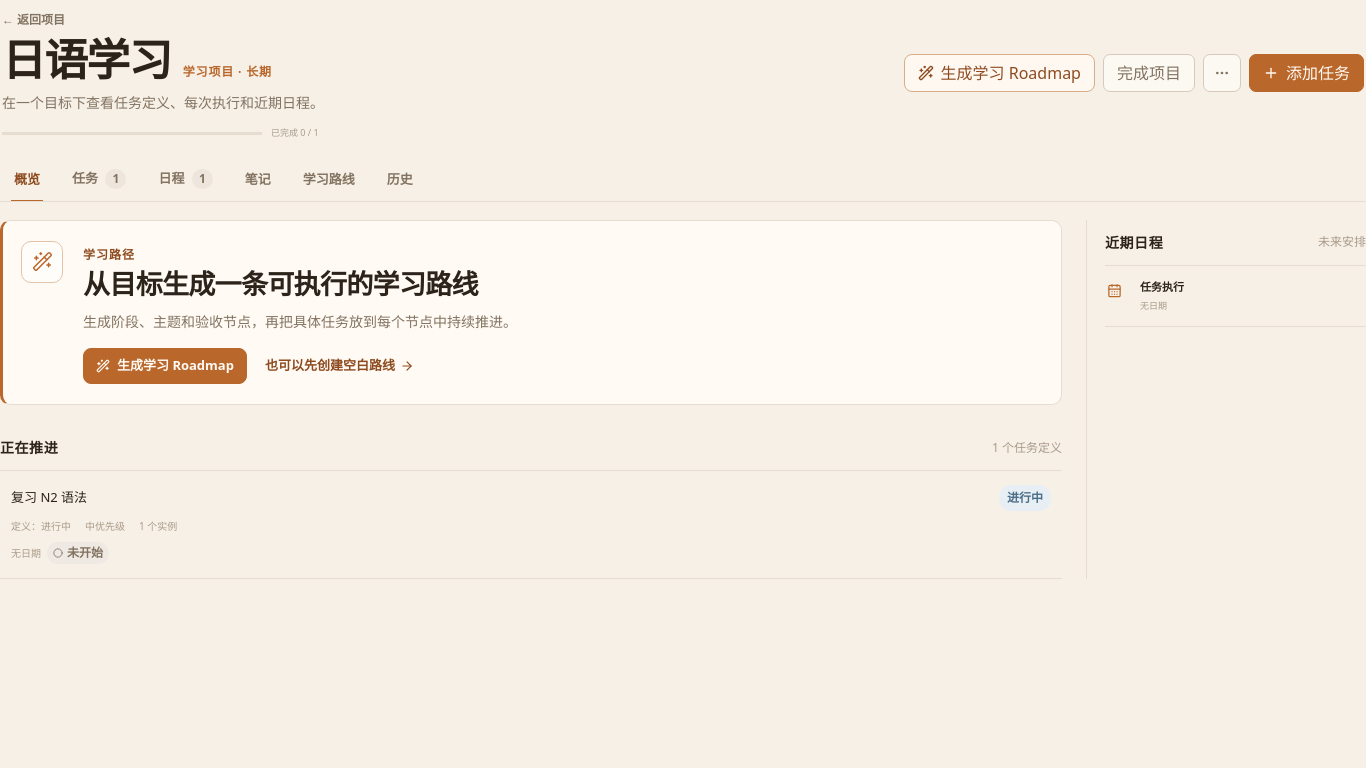
Test case: Project detail v2 › requires an explicit cancel-or-move decision before completing a project with open occurrences
Click the button "完成项目": (1149, 73) [1103,54,1195,92]
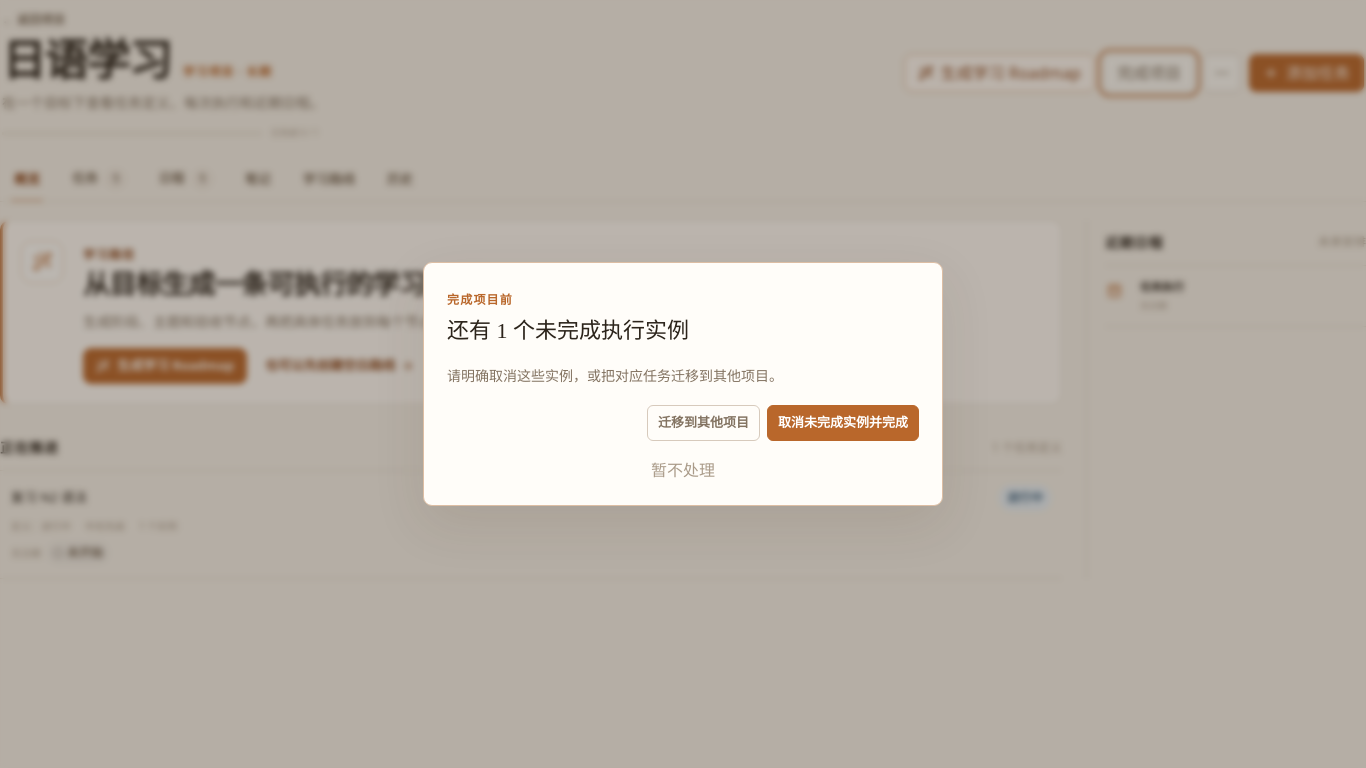
Expected: the dialog named "处理未完成执行实例" is shown
Expected: the button "取消未完成实例并完成" is shown, [767,405,919,441]
Expected: the button "迁移到其他项目" is shown, [647,405,760,441]
